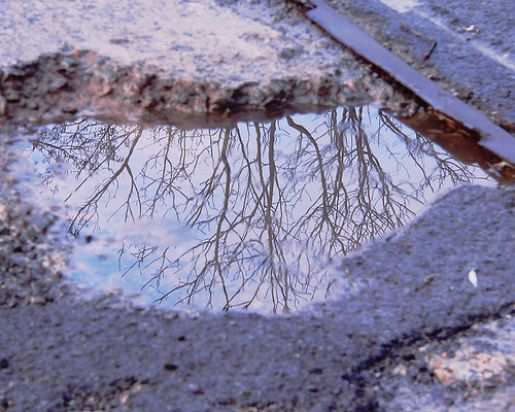pothole: (3, 46, 491, 322)
